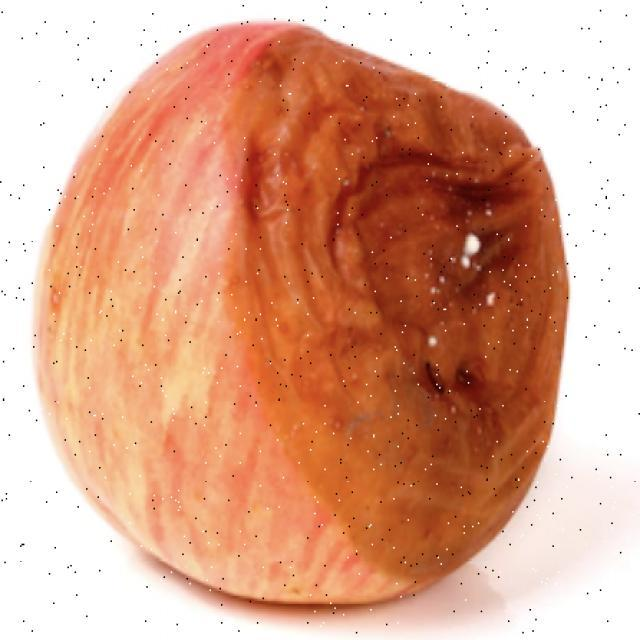Rotten: (50, 27, 585, 600)
